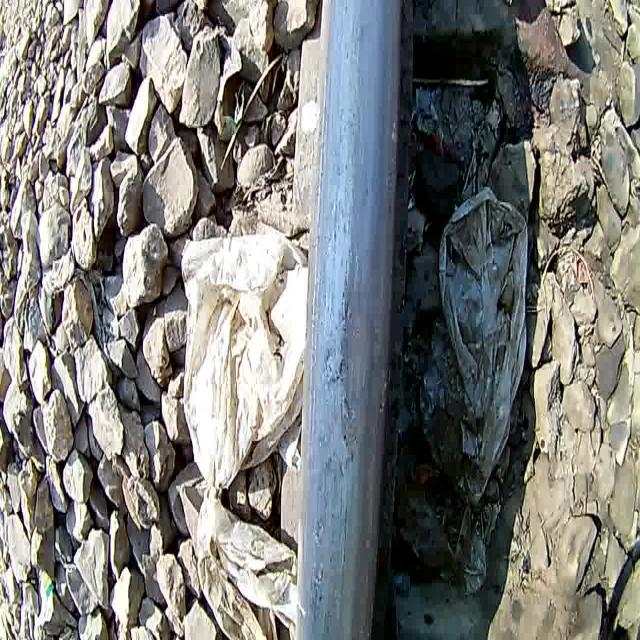Squats: (284, 0, 422, 640)
